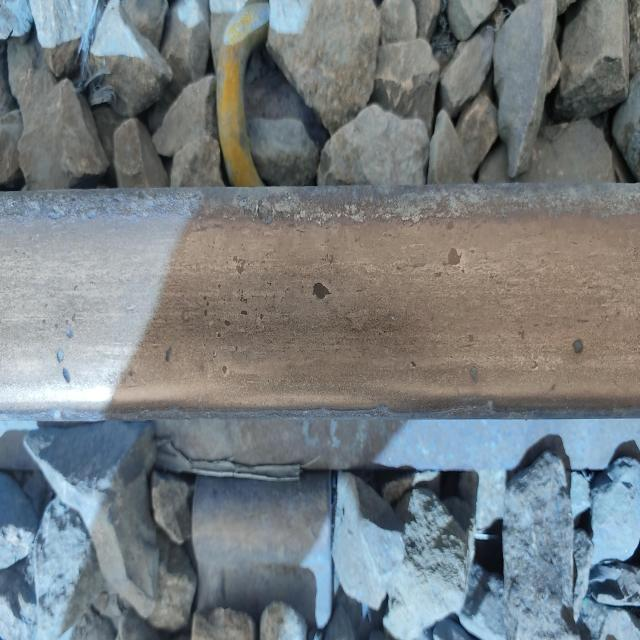Good Fasteners: (216, 0, 269, 187)
Missing Fastener: (191, 471, 342, 640)
